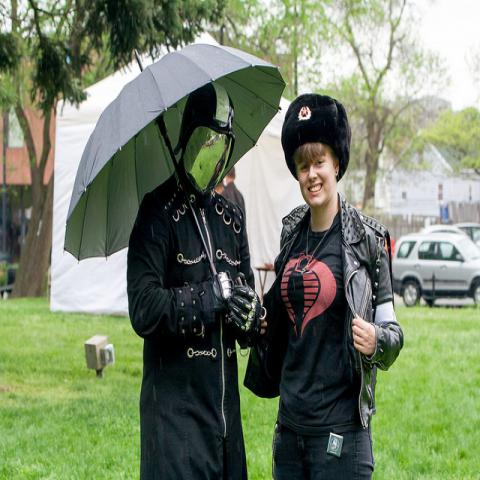car: (391, 226, 479, 307), (454, 222, 479, 248)
